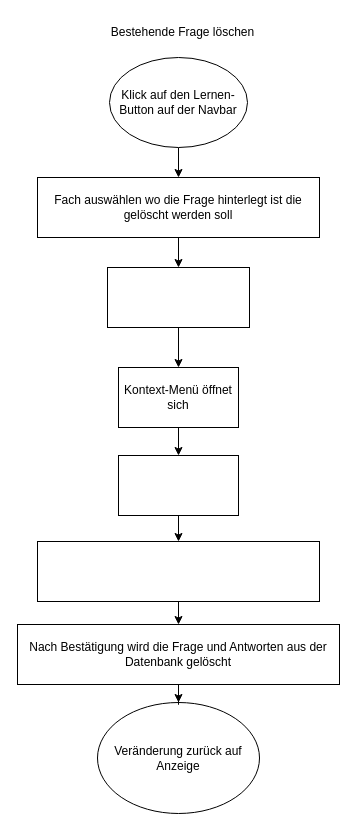
The diagram is 357 pixels wide and 831 high, and some of its shapes have lost their labels. The centre of each missing label's shape, as x and y in pixels:
Langen Klick auf die Frage die gelöscht werden soll: point (178, 297)
Löschen auf dem Kontext-Menü auswählen: point (178, 485)
Nachfrage ob die Frage mit allen Antworten wirklich gelöscht werden soll: point (178, 571)
